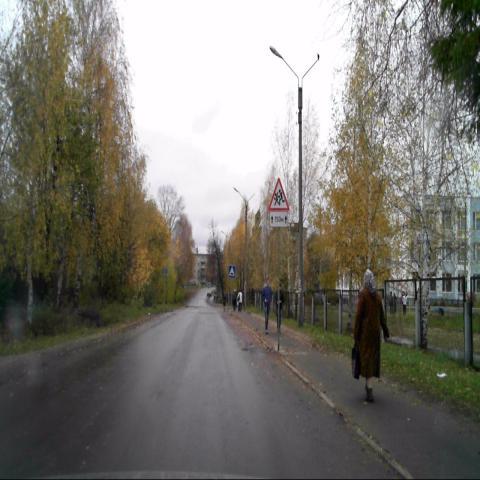1_23: (268, 177, 290, 211)
